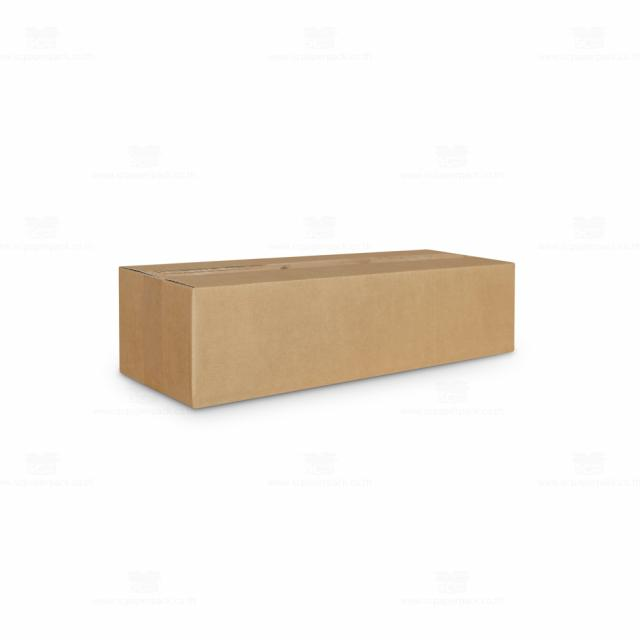box: (90, 223, 536, 417)
